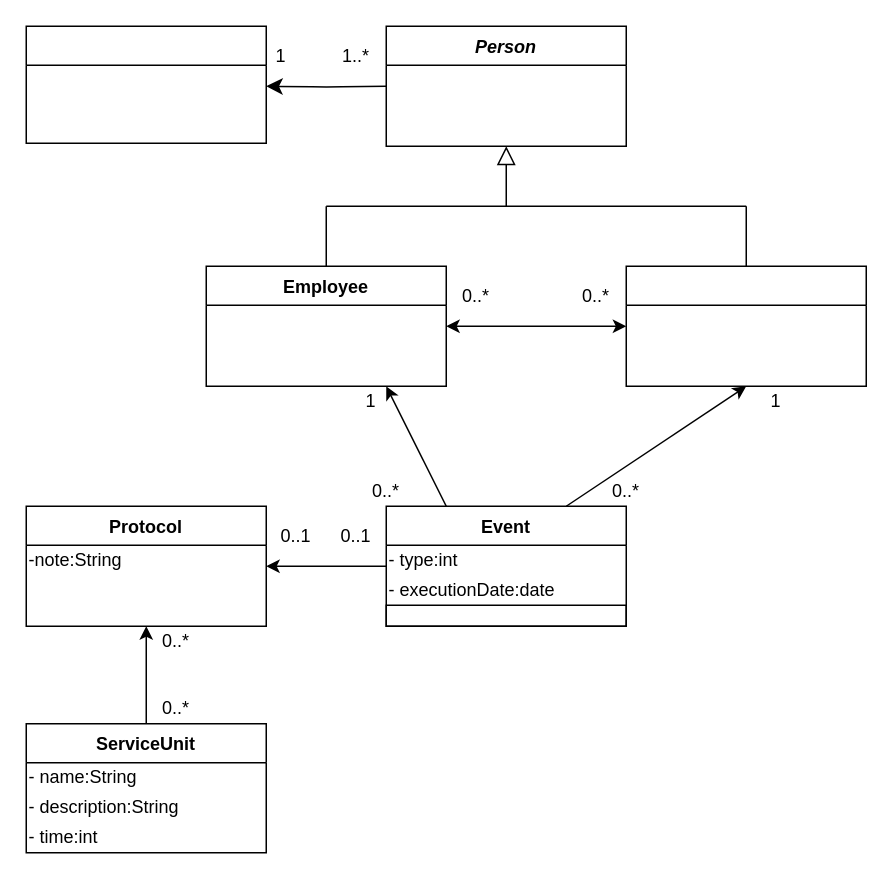
This 893x879 diagram has some shape labels left out. The centre of each missing label's shape, as x and y in pixels:
"Address" goes at (145,84).
"Client" goes at (745,325).
